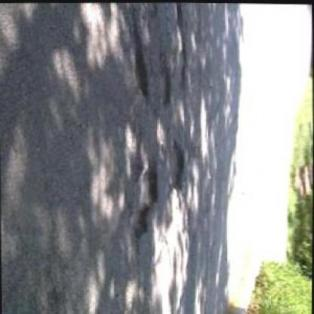Hueco: (129, 163, 162, 238), (130, 48, 151, 98), (170, 139, 186, 192)
